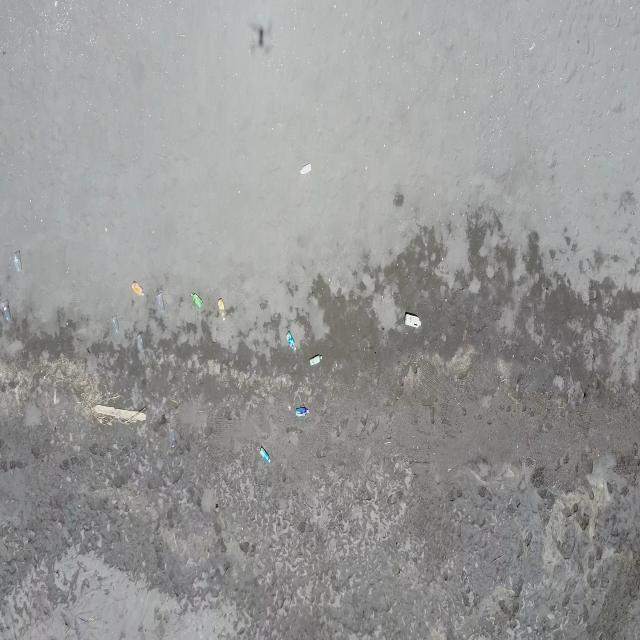plastic-bottle: (402, 311, 422, 330), (258, 445, 274, 464), (132, 279, 146, 298), (217, 297, 227, 321), (298, 162, 312, 177), (190, 291, 202, 308), (286, 332, 296, 352), (310, 352, 324, 366), (294, 406, 310, 418)
takeaway-cup: (167, 422, 178, 451), (0, 298, 11, 323), (12, 252, 22, 275), (156, 290, 165, 313), (136, 334, 146, 354), (111, 314, 120, 334)
